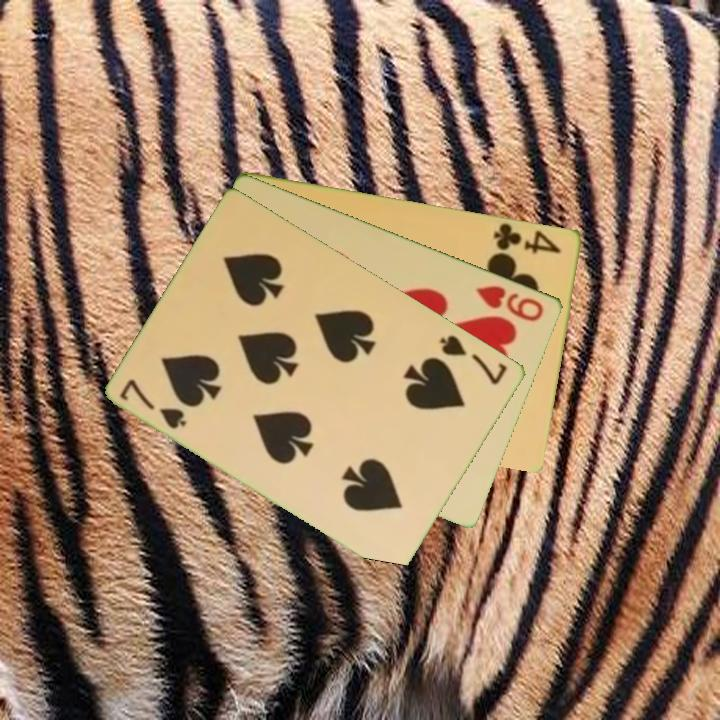4c: (490, 219, 564, 257)
7s: (436, 331, 511, 388), (116, 375, 190, 432)
9h: (472, 281, 547, 325)
